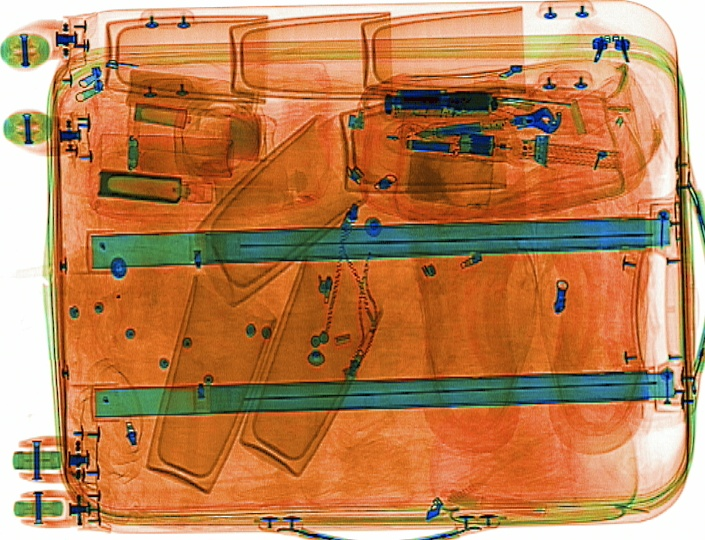pressure: (96, 130, 237, 178)
